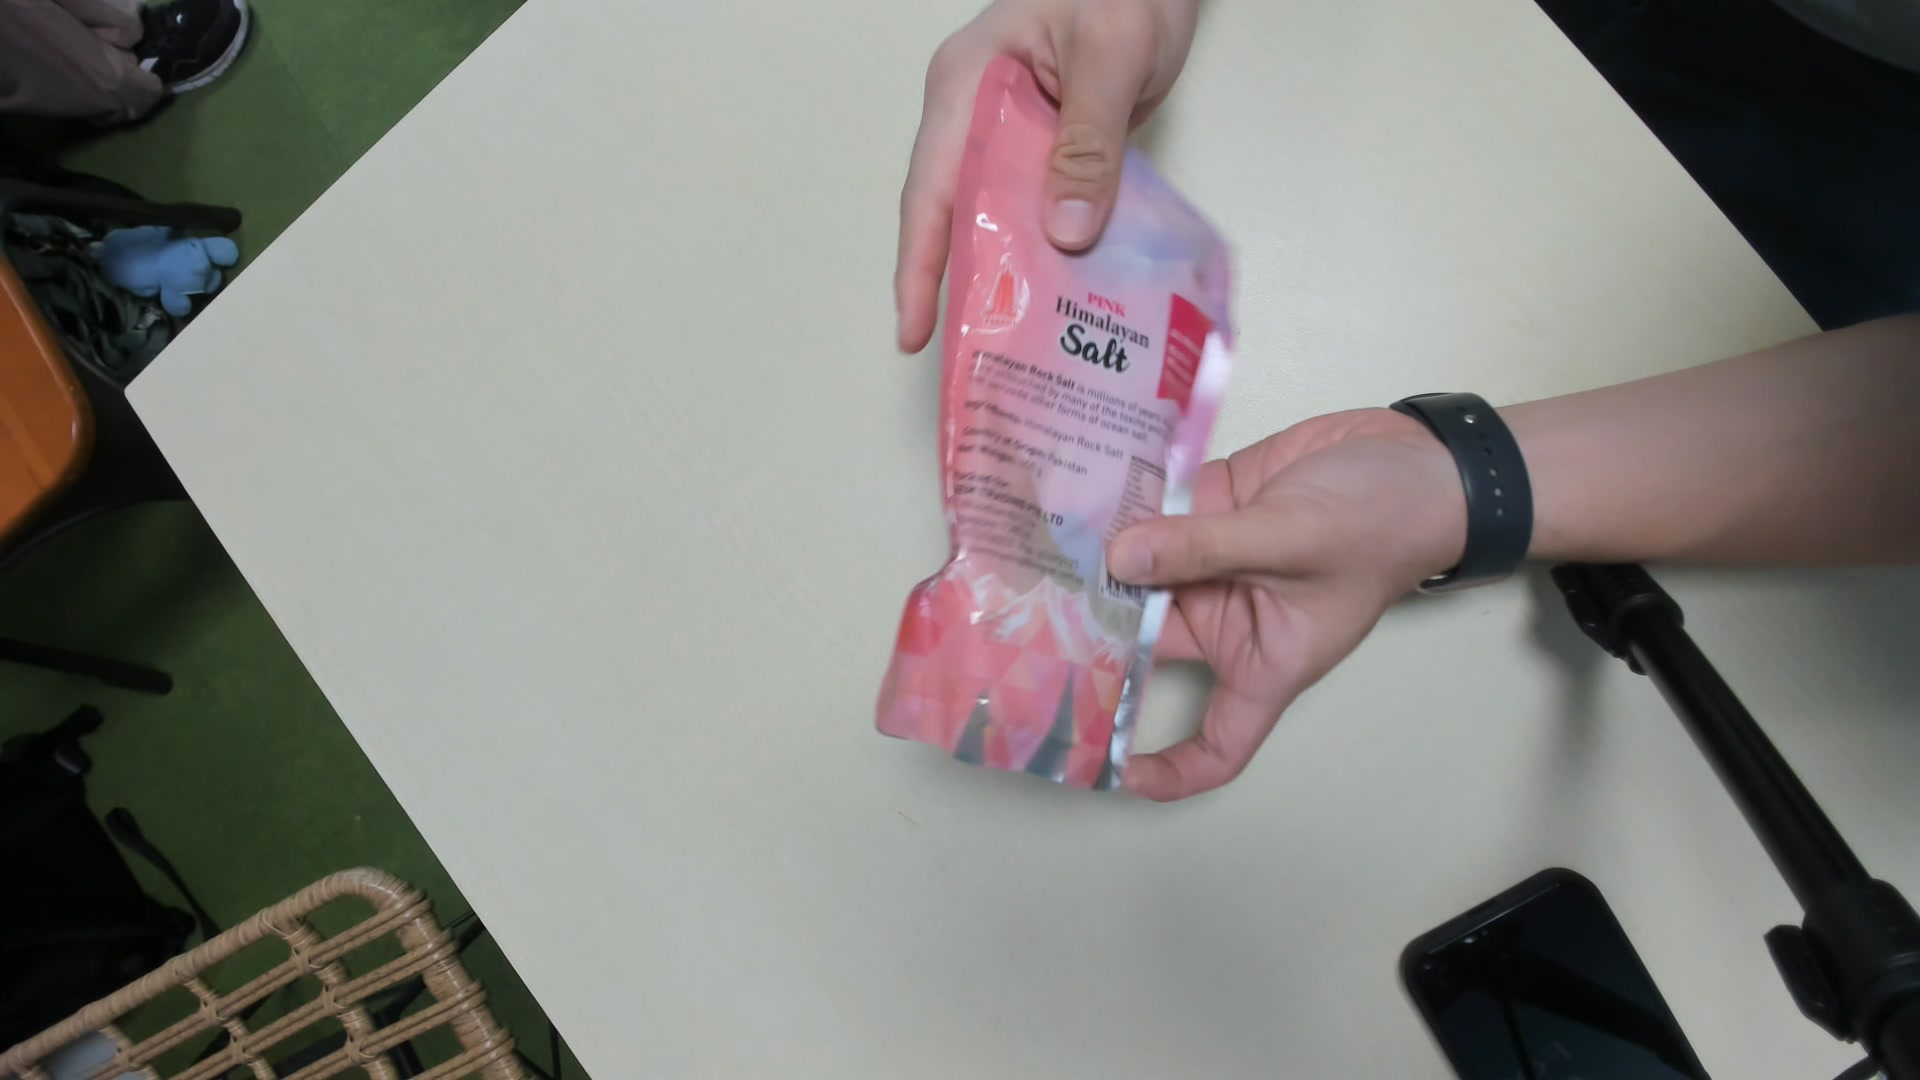Salt_400-499g_NonHalal_NonHealthy: (878, 76, 1230, 799)
